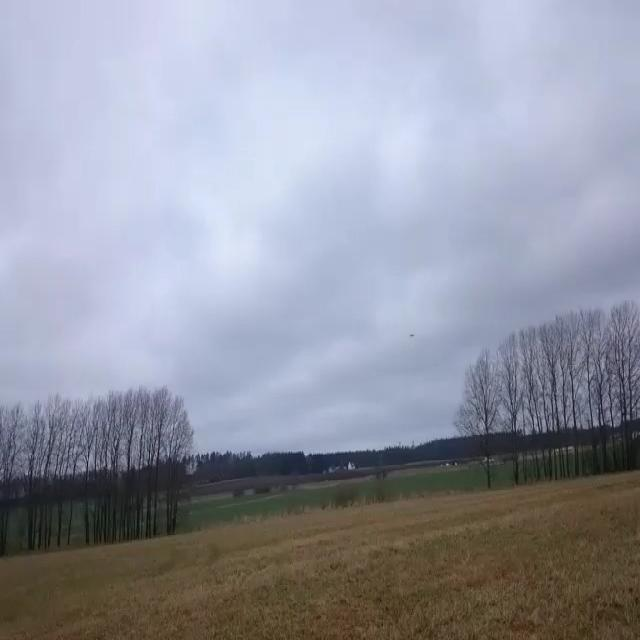drone: (410, 334, 414, 336)
